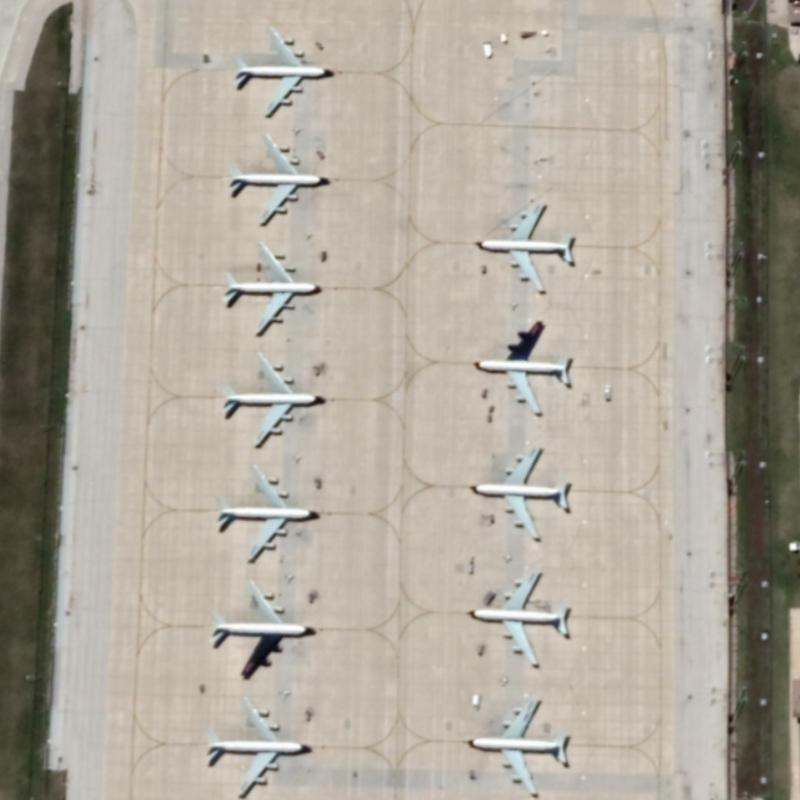A11: (463, 560, 578, 672), (202, 571, 318, 682), (200, 688, 316, 799), (209, 457, 320, 571), (464, 192, 581, 299), (216, 343, 328, 453), (219, 126, 332, 233), (465, 314, 578, 421), (464, 440, 573, 549), (460, 691, 570, 799), (214, 238, 326, 343), (225, 17, 336, 121)
